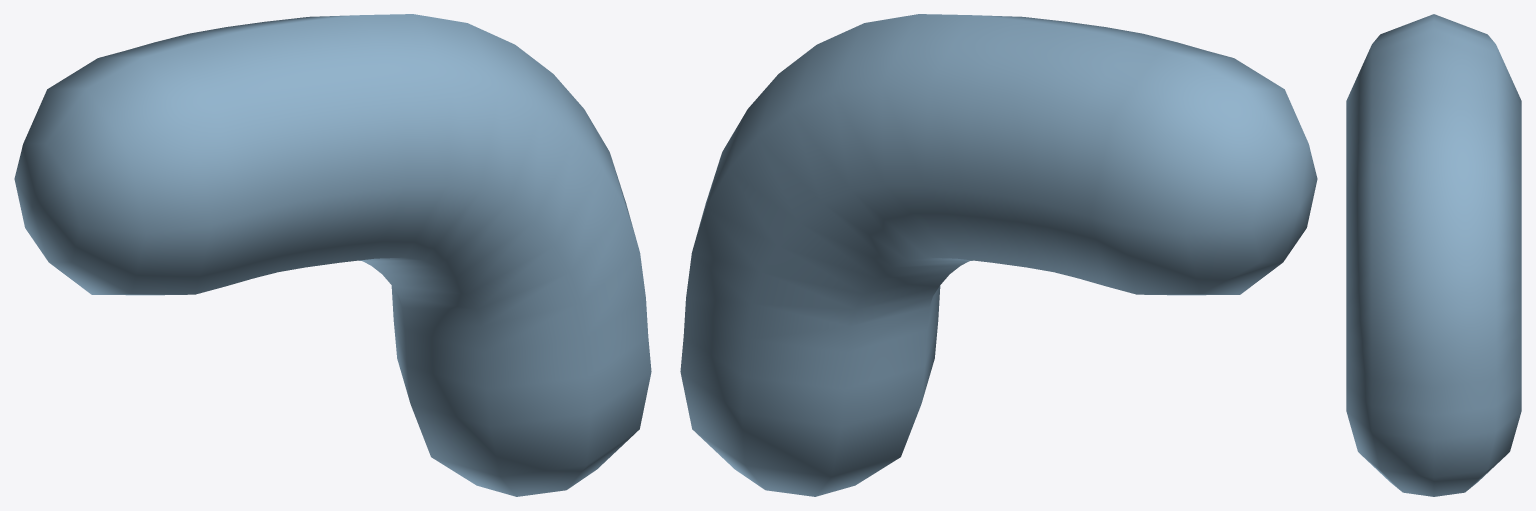
The model's file is duct_elbow.glb.
The picture shows the model from 3 angles, left to right: view 1: azimuth 30°, elevation 25°; view 2: azimuth 150°, elevation 25°; view 3: azimuth 270°, elevation 25°; orthographic projection. The views are drawn at different scales.
Parts seen in each view (by area): view 1: Bent_duct; view 2: Bent_duct; view 3: Bent_duct.
Boxes of the visible parts, box(x1,y1,x2,y2) form: Bent_duct: box(14, 14, 651, 496); Bent_duct: box(680, 14, 1317, 496); Bent_duct: box(1346, 14, 1521, 496).
Size of the model in its own units: 0.6095 by 0.5016 by 0.23.
